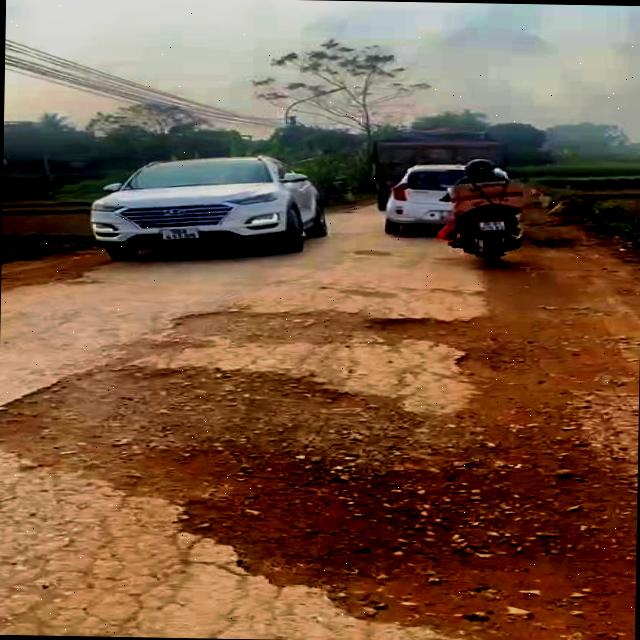pothole: (0, 354, 639, 640), (147, 302, 501, 374)
